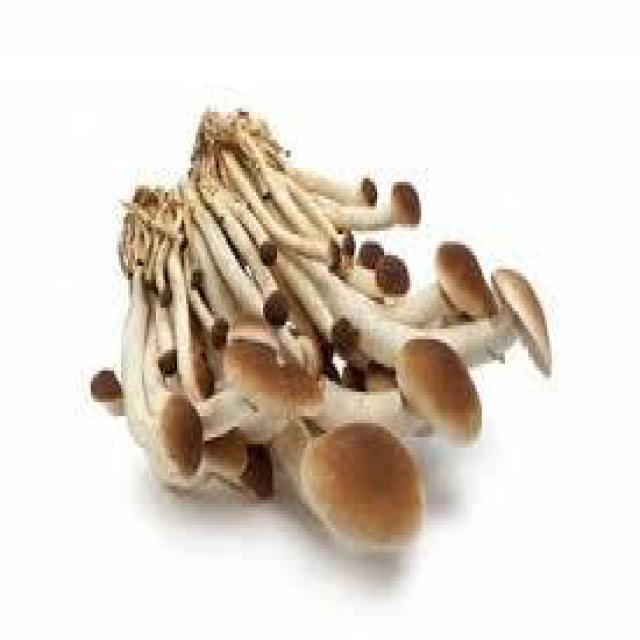Agrocybe aegerita: (87, 108, 551, 552)
